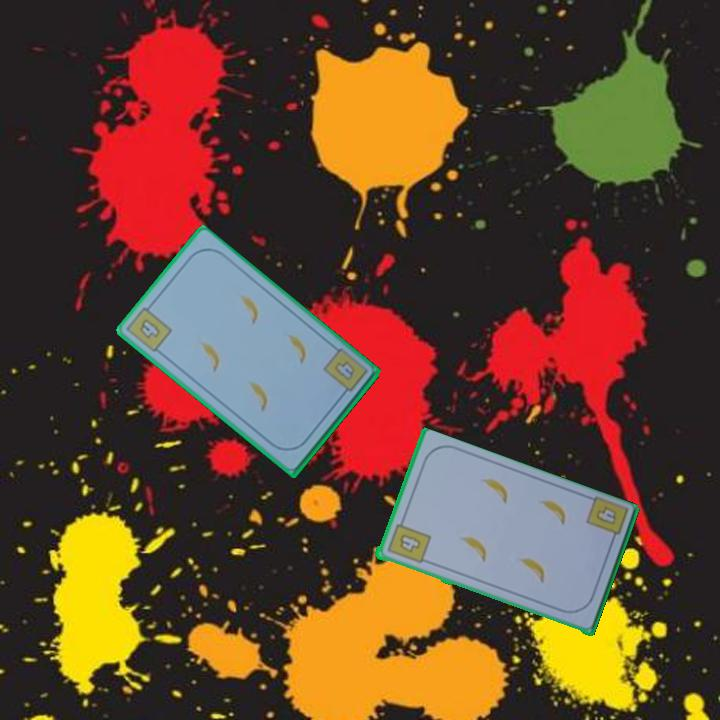4b: (125, 299, 175, 355), (582, 494, 630, 548), (383, 516, 433, 567), (330, 357, 358, 384)
